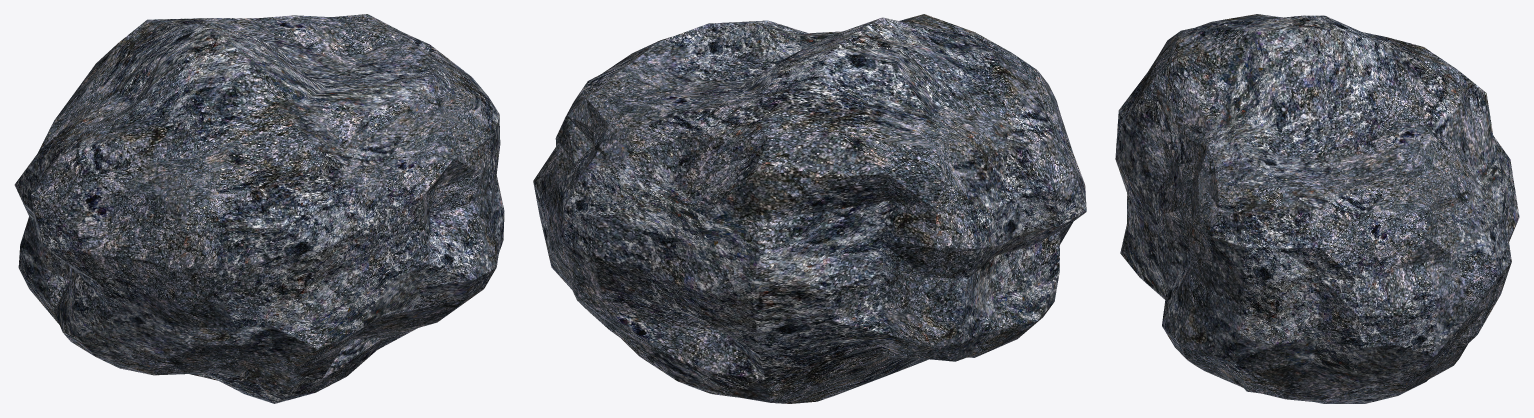
The model's file is asteroid_iron_large_s01_l0.fbx.
3 renders of one model, left to right at view 1: azimuth 30°, elevation 25°; view 2: azimuth 150°, elevation 25°; view 3: azimuth 270°, elevation 25°, orthographic. The views are drawn at different scales.
Visible parts, largest first — view 1: mesh_node; view 2: mesh_node; view 3: mesh_node.
Part boxes in pixels (<box>): mesh_node: <box>14,14,504,403</box>; mesh_node: <box>533,14,1086,403</box>; mesh_node: <box>1115,14,1519,403</box>.
Size of the model in its own units: 120 by 86.3 by 94.33.
